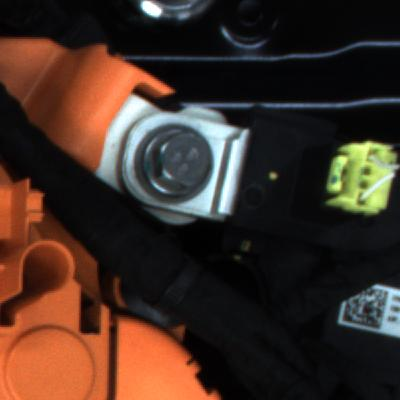nut_b: (129, 122, 233, 200)
